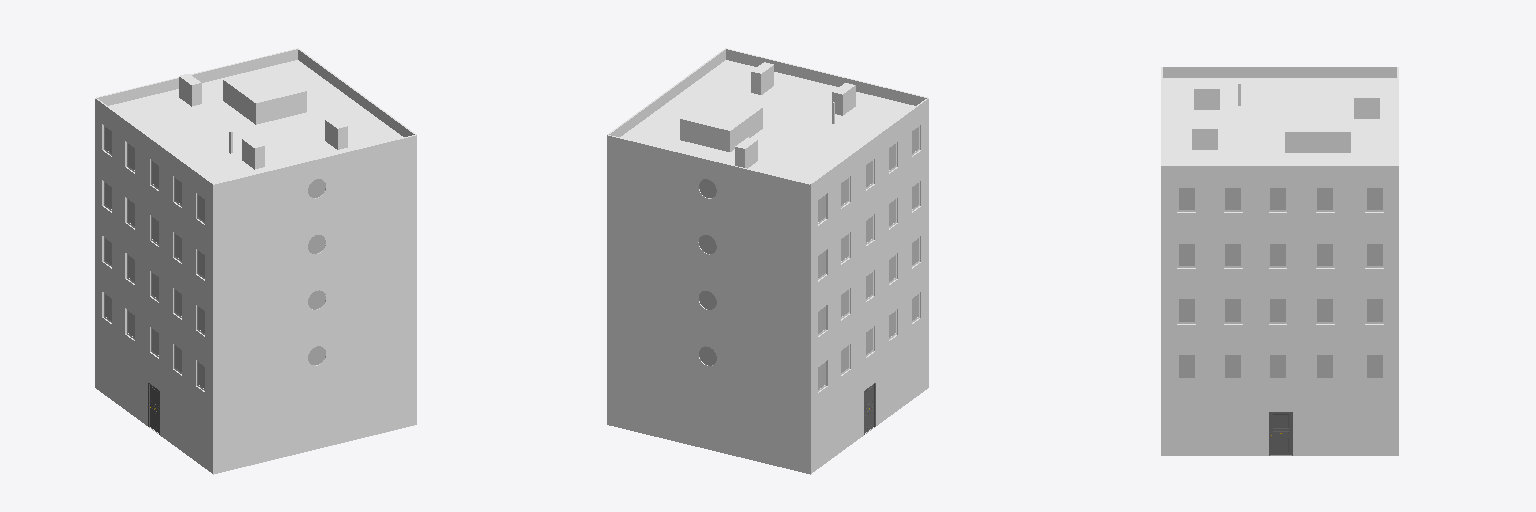
Rendered from building1.obj.
The picture shows the model from 3 angles: view 1: azimuth 30°, elevation 25°; view 2: azimuth 150°, elevation 25°; view 3: azimuth 270°, elevation 25°; orthographic projection.
Parts seen in each view (by area): view 1: room_29_150, wall_6_35, wall_2_11, wall_10_59, wall_18_107, wall_14_83, wall_13_77, wall_1_5, wall_5_29, wall_9_53, wall_17_101, wall_22_131 (+6 smaller); view 2: room_29_150, wall_8_47, wall_4_23, wall_20_119, wall_12_71, wall_16_95, wall_13_77, wall_1_5, wall_9_53, wall_17_101, wall_5_29, wall_24_143 (+6 smaller); view 3: room_29_150, wall_15_89, wall_19_113, wall_3_17, wall_7_41, wall_11_65, wall_23_137, wall_21_124, top_532, right_534, sweethome3d_opening_on_hinge_1_doorOutside_518, right_522 (+2 smaller).
Part boxes in pixels (x1,y1,x2,y2): room_29_150: (108,60,403,183); wall_6_35: (213,260,416,364); wall_2_11: (213,316,416,420); wall_10_59: (213,204,416,309); wall_18_107: (213,149,416,253); wall_14_83: (213,372,416,474); wall_13_77: (95,335,212,473); wall_1_5: (95,279,212,420); wall_5_29: (95,223,212,364); wall_9_53: (95,168,212,308); wall_17_101: (95,112,212,252); wall_22_131: (213,135,416,197); room_29_150: (620,60,915,183); wall_8_47: (607,260,809,364); wall_4_23: (607,316,809,420); wall_20_119: (607,149,809,253); wall_12_71: (607,204,809,308); wall_16_95: (607,372,809,473); wall_13_77: (810,335,928,473); wall_1_5: (810,279,928,420); wall_9_53: (810,168,928,308); wall_17_101: (810,112,928,252); wall_5_29: (810,223,928,364); wall_24_143: (607,135,809,197); room_29_150: (1163,78,1396,165); wall_15_89: (1161,403,1398,455); wall_19_113: (1161,179,1398,234); wall_3_17: (1161,347,1398,402); wall_7_41: (1161,291,1398,346); wall_11_65: (1161,235,1398,290); wall_23_137: (1161,166,1398,178); wall_21_124: (1163,67,1396,77); top_532: (1285,107,1350,131); right_534: (1285,132,1350,152); sweethome3d_opening_on_hinge_1_doorOutside_518: (1270,413,1291,454); right_522: (1194,89,1219,109).
Bounding box in the file's own units: 1003 × 1410 × 1013.